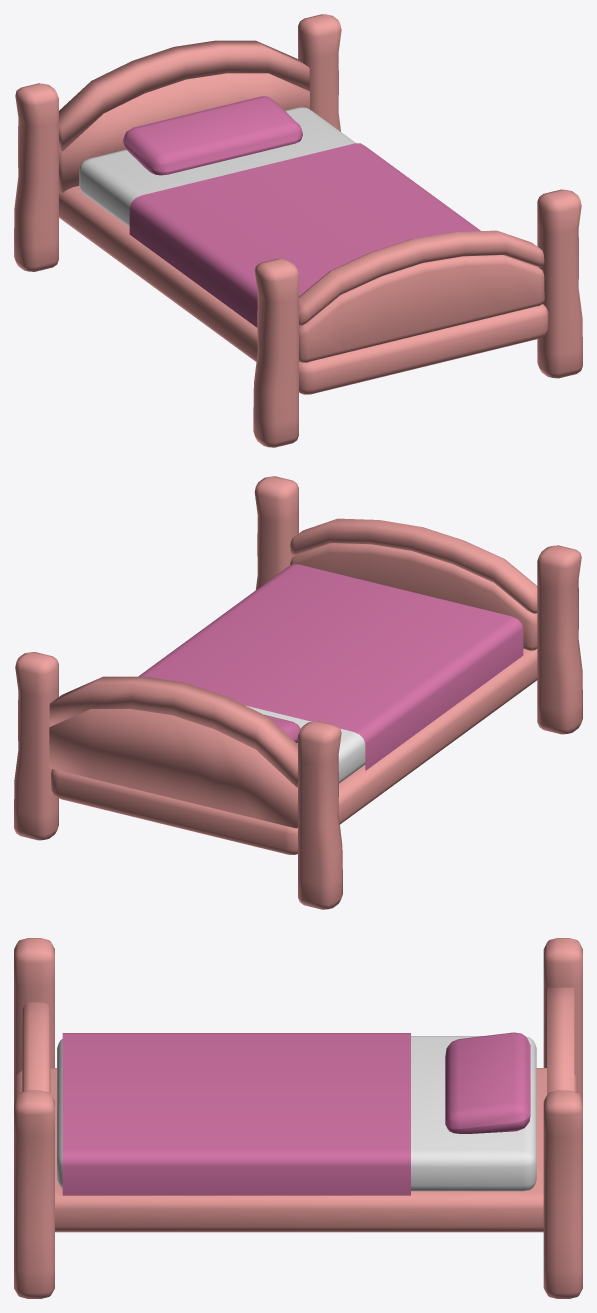
File: pink bed.fbx
The picture shows the model from 3 angles, top to bottom: view 1: azimuth 30°, elevation 25°; view 2: azimuth 150°, elevation 25°; view 3: azimuth 270°, elevation 25°; orthographic projection. The views are drawn at different scales.
Parts seen in each view (by area): view 1: Cube; view 2: Cube; view 3: Cube.
Boxes of the visible parts, bbox=[...] form: Cube: bbox=[14, 14, 582, 447]; Cube: bbox=[14, 476, 582, 909]; Cube: bbox=[14, 938, 582, 1298].
Bounding box in the file's own units: 146 × 79.51 × 204.
